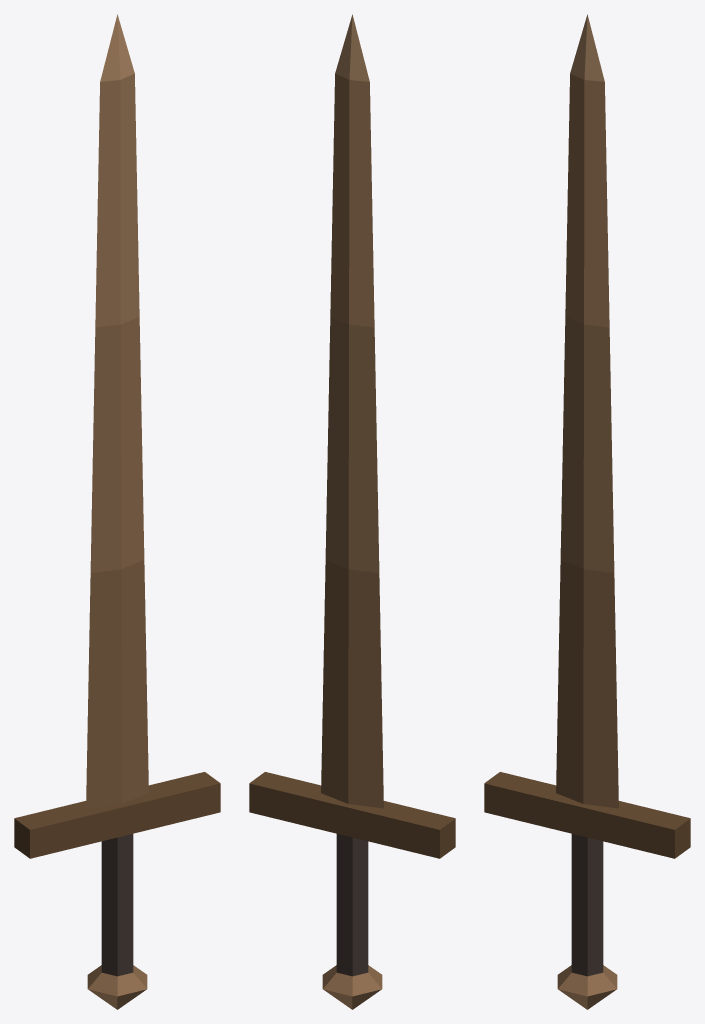
File: sword_arming_copper_s1000.glb
3 renders of one model, left to right at view 1: azimuth 30°, elevation 25°; view 2: azimuth 150°, elevation 25°; view 3: azimuth 330°, elevation 25°, orthographic.
Visible parts, largest first — view 1: sword_arming_copper_s1000; view 2: sword_arming_copper_s1000; view 3: sword_arming_copper_s1000.
Part boxes in pixels (<box>): sword_arming_copper_s1000: <box>14,14,220,1009</box>; sword_arming_copper_s1000: <box>249,14,455,1009</box>; sword_arming_copper_s1000: <box>484,14,690,1009</box>.
Size of the model in its own units: 0.1796 by 0.8963 by 0.0485.
1 material, 1 textured.
